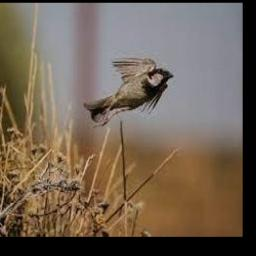Sparrow: (83, 57, 173, 128)
